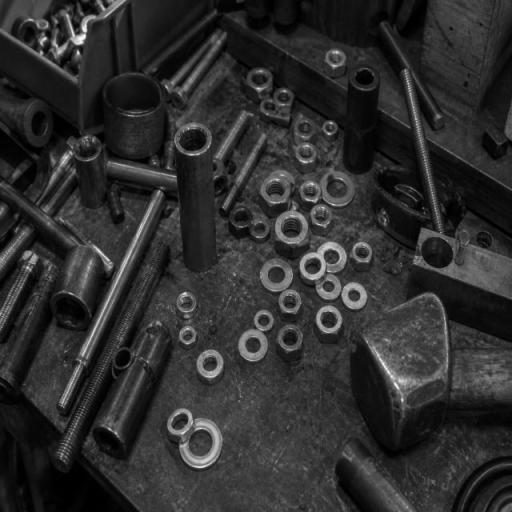Bolt: (55, 184, 164, 420), (50, 318, 170, 478), (394, 59, 453, 251), (218, 127, 270, 214), (167, 27, 229, 96)
Nut: (317, 170, 356, 208), (275, 209, 310, 247), (263, 170, 296, 209), (314, 304, 344, 341), (275, 324, 304, 361), (166, 407, 195, 443), (245, 65, 274, 95), (226, 203, 253, 234), (276, 288, 303, 317), (306, 203, 331, 230), (323, 275, 348, 302), (323, 48, 347, 73), (295, 142, 319, 166), (247, 218, 269, 244), (290, 268, 312, 294), (351, 241, 374, 265), (251, 311, 273, 335), (292, 115, 314, 138), (300, 182, 322, 204), (274, 102, 294, 126), (258, 87, 277, 108), (321, 119, 340, 139)
Washer: (176, 418, 224, 469), (259, 258, 294, 292), (237, 328, 268, 363), (315, 240, 347, 272), (196, 348, 224, 381), (298, 251, 328, 281), (341, 283, 369, 311), (175, 290, 199, 315), (177, 324, 197, 345)
